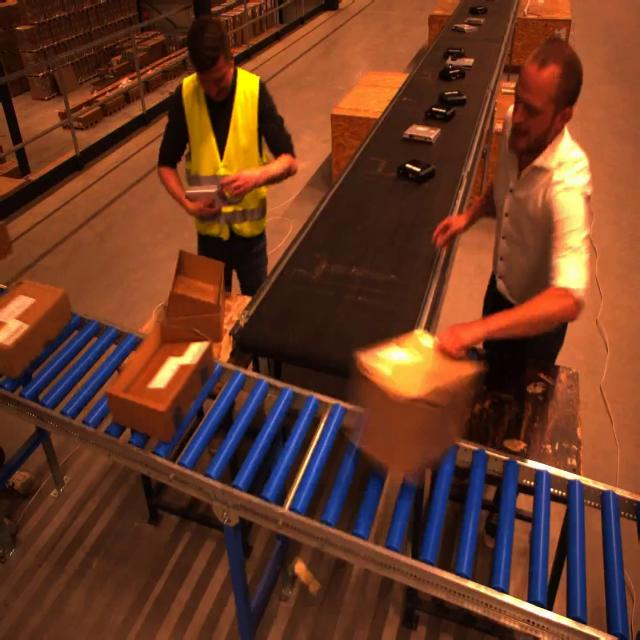box: (347, 338, 482, 476), (98, 298, 226, 443), (0, 269, 58, 369), (171, 255, 229, 333)
product: (399, 160, 441, 183), (401, 123, 441, 143), (424, 105, 455, 122), (438, 65, 467, 82), (438, 91, 467, 107), (446, 57, 474, 68), (443, 47, 464, 60), (452, 24, 479, 34), (469, 5, 487, 15), (464, 18, 485, 25)
